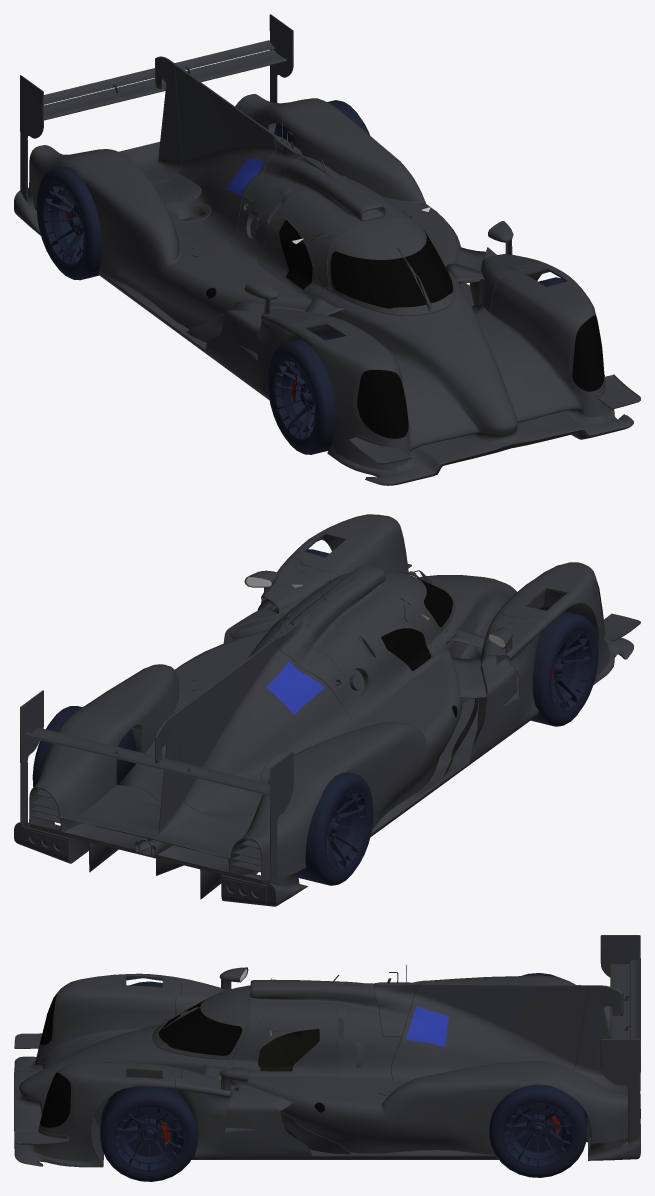
The model's file is AIToyotaTS40.fbx.
3 renders of one model, top to bottom at view 1: azimuth 30°, elevation 25°; view 2: azimuth 150°, elevation 25°; view 3: azimuth 270°, elevation 25°, orthographic. The views are drawn at different scales.
Visible parts, largest first — view 1: TS40_Body, TS40_Glasses, Wheel_Front_Right, Wheel_Rear_Right, TS40_Headlight_Glass, TS40_Decals; view 2: TS40_Body, Wheel_Front_Right, Wheel_Rear_Right, TS40_Glasses, TS40_Decals, Wheel_Rear_Left; view 3: TS40_Body, Wheel_Front_Left, Wheel_Rear_Left, TS40_Glasses, TS40_Interior_Cabin, TS40_Headlight_Glass, TS40_Decals.
Part boxes in pixels (left/top/right/bottom): TS40_Body: left=14, top=14, right=640, bottom=485; TS40_Glasses: left=205, top=220, right=455, bottom=308; Wheel_Front_Right: left=267, top=335, right=335, bottom=454; Wheel_Rear_Right: left=36, top=167, right=101, bottom=280; TS40_Headlight_Glass: left=357, top=315, right=603, bottom=438; TS40_Decals: left=226, top=158, right=263, bottom=195; TS40_Body: left=14, top=514, right=640, bottom=906; Wheel_Front_Right: left=531, top=607, right=598, bottom=726; Wheel_Rear_Right: left=298, top=772, right=373, bottom=885; TS40_Glasses: left=381, top=579, right=457, bottom=717; TS40_Decals: left=266, top=661, right=324, bottom=714; Wheel_Rear_Left: left=32, top=706, right=136, bottom=787; TS40_Body: left=14, top=935, right=640, bottom=1167; Wheel_Front_Left: left=100, top=1086, right=198, bottom=1181; Wheel_Rear_Left: left=489, top=1084, right=586, bottom=1177; TS40_Glasses: left=158, top=999, right=324, bottom=1112; TS40_Interior_Cabin: left=219, top=1029, right=319, bottom=1071; TS40_Headlight_Glass: left=40, top=992, right=70, bottom=1127; TS40_Decals: left=405, top=1006, right=448, bottom=1046.
Size of the model in its own units: 2.53 by 1.58 by 5.54.
